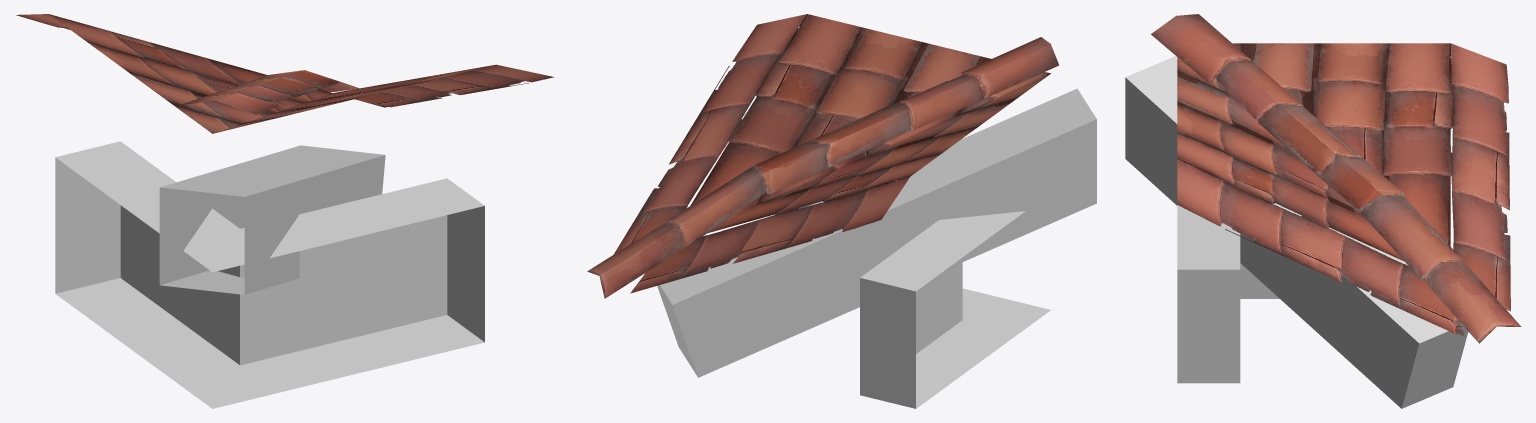
The model's file is WallKit_Valley_End_LOD2.fbx.
3 views of the same model, side by side, from view 1: azimuth 30°, elevation 25°; view 2: azimuth 150°, elevation 25°; view 3: azimuth 270°, elevation 25° (orthographic). The views are drawn at different scales.
Parts seen in each view (by area): view 1: WallKit_Valley_End_LOD2; view 2: WallKit_Valley_End_LOD2; view 3: WallKit_Valley_End_LOD2.
Boxes of the visible parts, x1,y1,x2,y2 form: WallKit_Valley_End_LOD2: [16, 14, 554, 408]; WallKit_Valley_End_LOD2: [587, 14, 1096, 408]; WallKit_Valley_End_LOD2: [1125, 14, 1521, 408].
Size of the model in its own units: 131 by 98.91 by 131.
